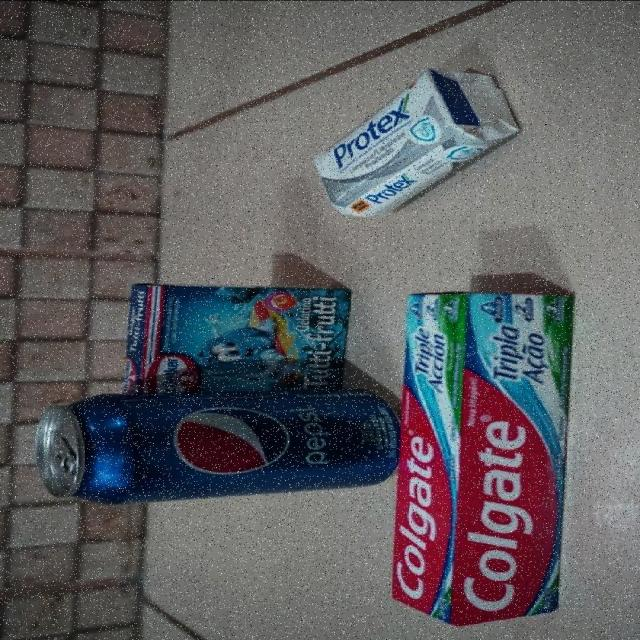Gelatine: (119, 283, 352, 396)
Soap: (314, 66, 520, 217)
SodaCan: (37, 386, 402, 506)
Toothpaste: (390, 290, 579, 626)
